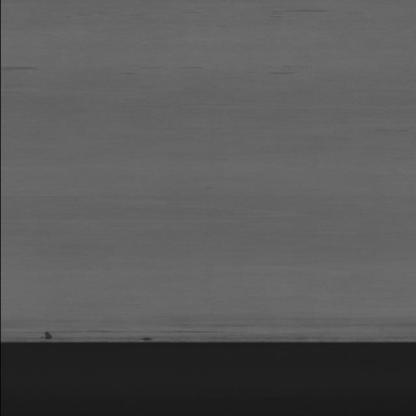oil_spot: (132, 333, 162, 342), (36, 333, 65, 342)
